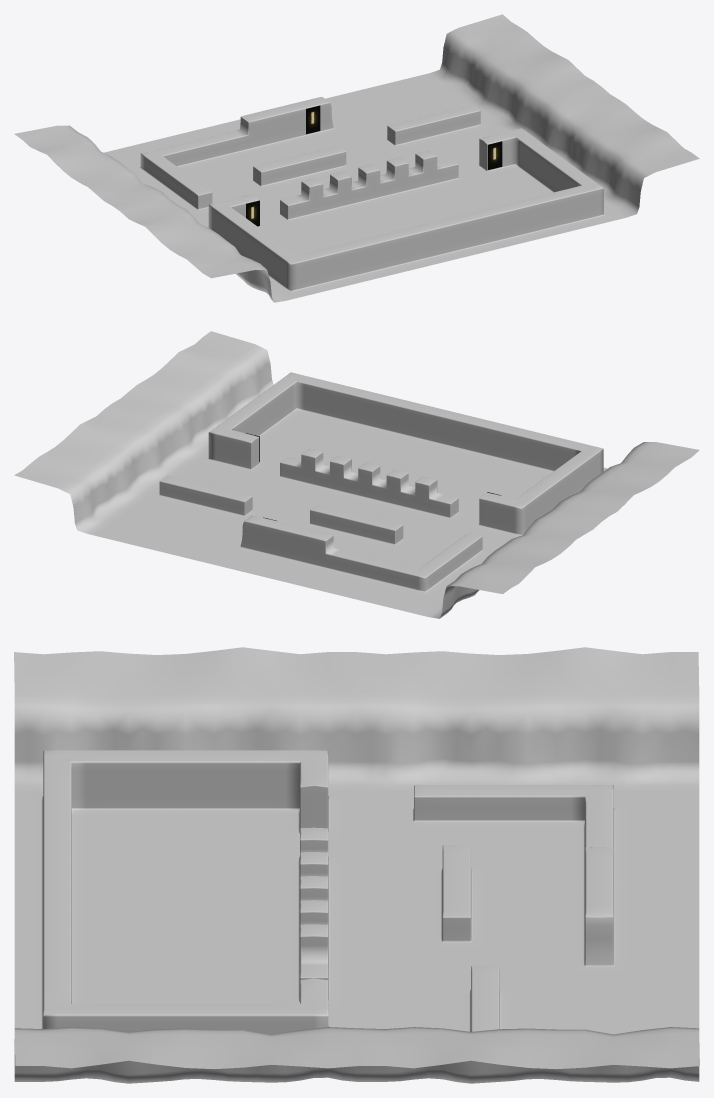
Rendered from Map01_01.fbx.
3 renders of one model, top to bottom at view 1: azimuth 30°, elevation 25°; view 2: azimuth 150°, elevation 25°; view 3: azimuth 270°, elevation 25°, orthographic. The views are drawn at different scales.
Visible parts, largest first — view 1: Map_Geo; view 2: Map_Geo; view 3: Map_Geo.
Part boxes in pixels (x1,y1,x2,y2): Map_Geo: (14,14,699,302); Map_Geo: (14,331,699,618); Map_Geo: (14,647,699,1083).
Bounding box in the file's own units: 3435 × 295 × 2405.
